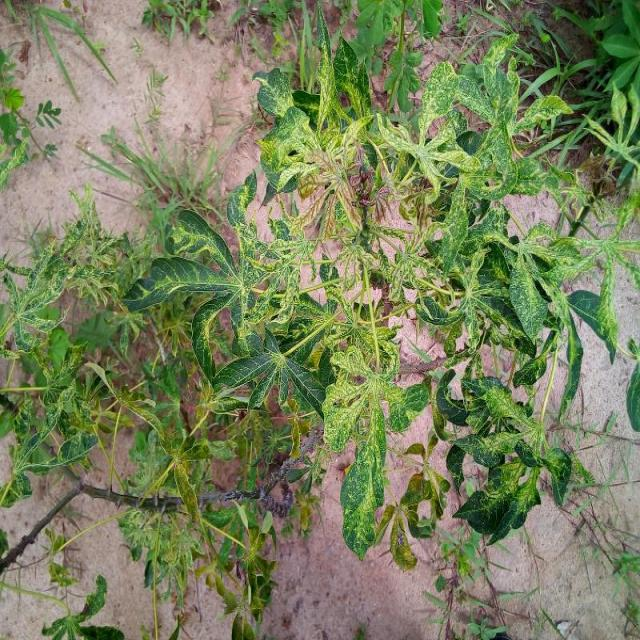Mosaico: (375, 205, 585, 373), (151, 196, 299, 369), (468, 376, 569, 527), (59, 208, 169, 336), (334, 329, 396, 545), (125, 403, 234, 514), (276, 96, 361, 220), (400, 60, 470, 206)
